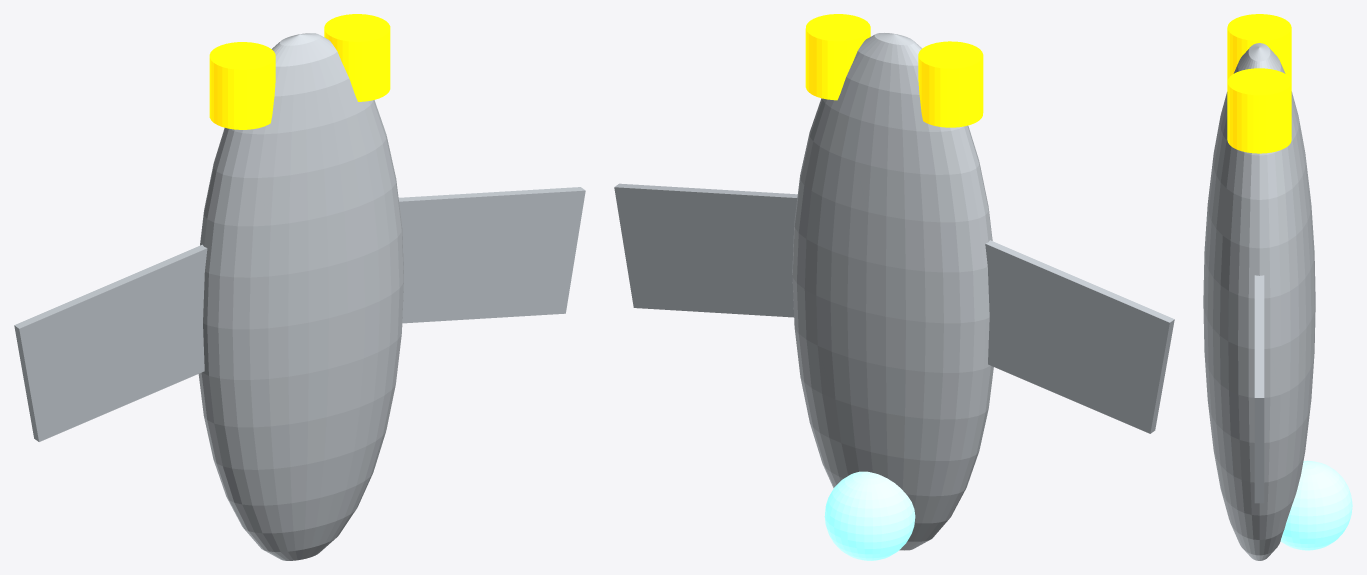
File: spaceship.glb
3 views of the same model, side by side, from view 1: azimuth 30°, elevation 25°; view 2: azimuth 150°, elevation 25°; view 3: azimuth 270°, elevation 25° (orthographic). The views are drawn at different scales.
Parts seen in each view (by area): view 1: Hull, Wing_Left, Wing_Right, Engine_Left, Engine_Right; view 2: Hull, Wing_Left, Wing_Right, Cockpit, Engine_Left, Engine_Right; view 3: Hull, Engine_Right, Cockpit, Engine_Left, Wing_Right.
Part boxes in pixels (x1=…): Hull: x1=198, y1=33, x2=403, y2=560; Wing_Left: x1=14, y1=244, x2=207, y2=441; Wing_Right: x1=398, y1=187, x2=585, y2=323; Engine_Left: x1=209, y1=42, x2=275, y2=129; Engine_Right: x1=324, y1=14, x2=390, y2=101; Hull: x1=792, y1=33, x2=993, y2=550; Wing_Left: x1=985, y1=240, x2=1174, y2=433; Wing_Right: x1=614, y1=183, x2=797, y2=317; Cockpit: x1=824, y1=471, x2=915, y2=560; Engine_Left: x1=918, y1=41, x2=983, y2=127; Engine_Right: x1=805, y1=14, x2=870, y2=100; Hull: x1=1203, y1=43, x2=1315, y2=560; Engine_Right: x1=1227, y1=68, x2=1291, y2=153; Cockpit: x1=1280, y1=460, x2=1352, y2=550; Engine_Left: x1=1227, y1=14, x2=1291, y2=81; Wing_Right: x1=1254, y1=275, x2=1264, y2=503.
Bounding box in the file's own units: 3.95 × 3.5 × 0.93.
